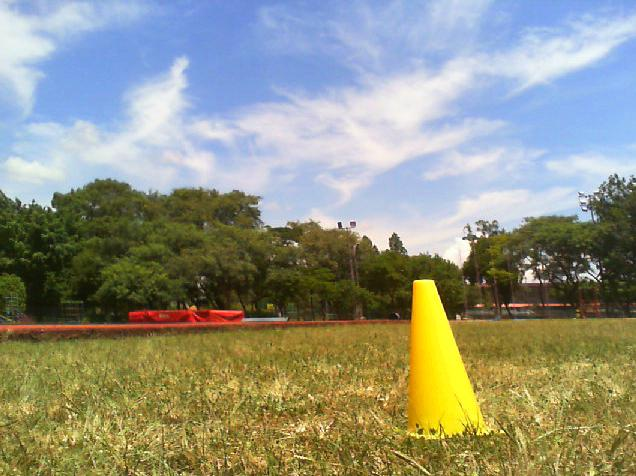0 cone: (406, 280, 504, 439)
